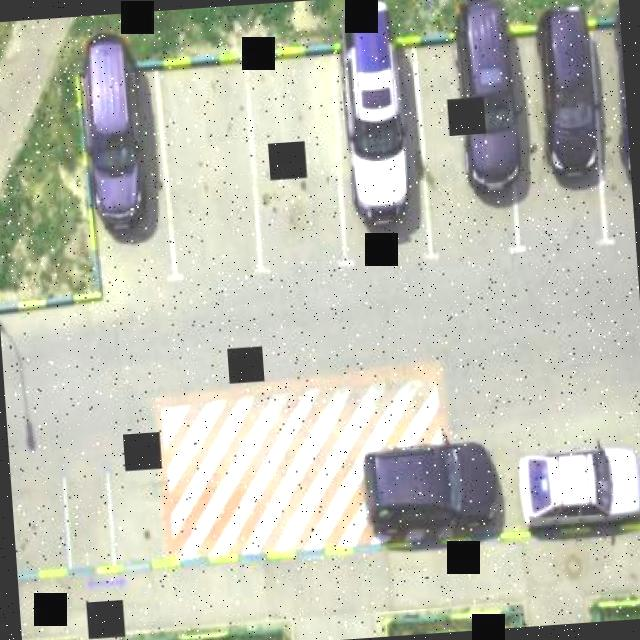car: (341, 8, 430, 239), (82, 46, 160, 240), (436, 10, 516, 192), (526, 431, 640, 539), (370, 443, 500, 530), (536, 21, 600, 155)
free: (262, 58, 334, 244), (174, 68, 249, 236), (120, 468, 166, 552), (11, 489, 55, 562)
